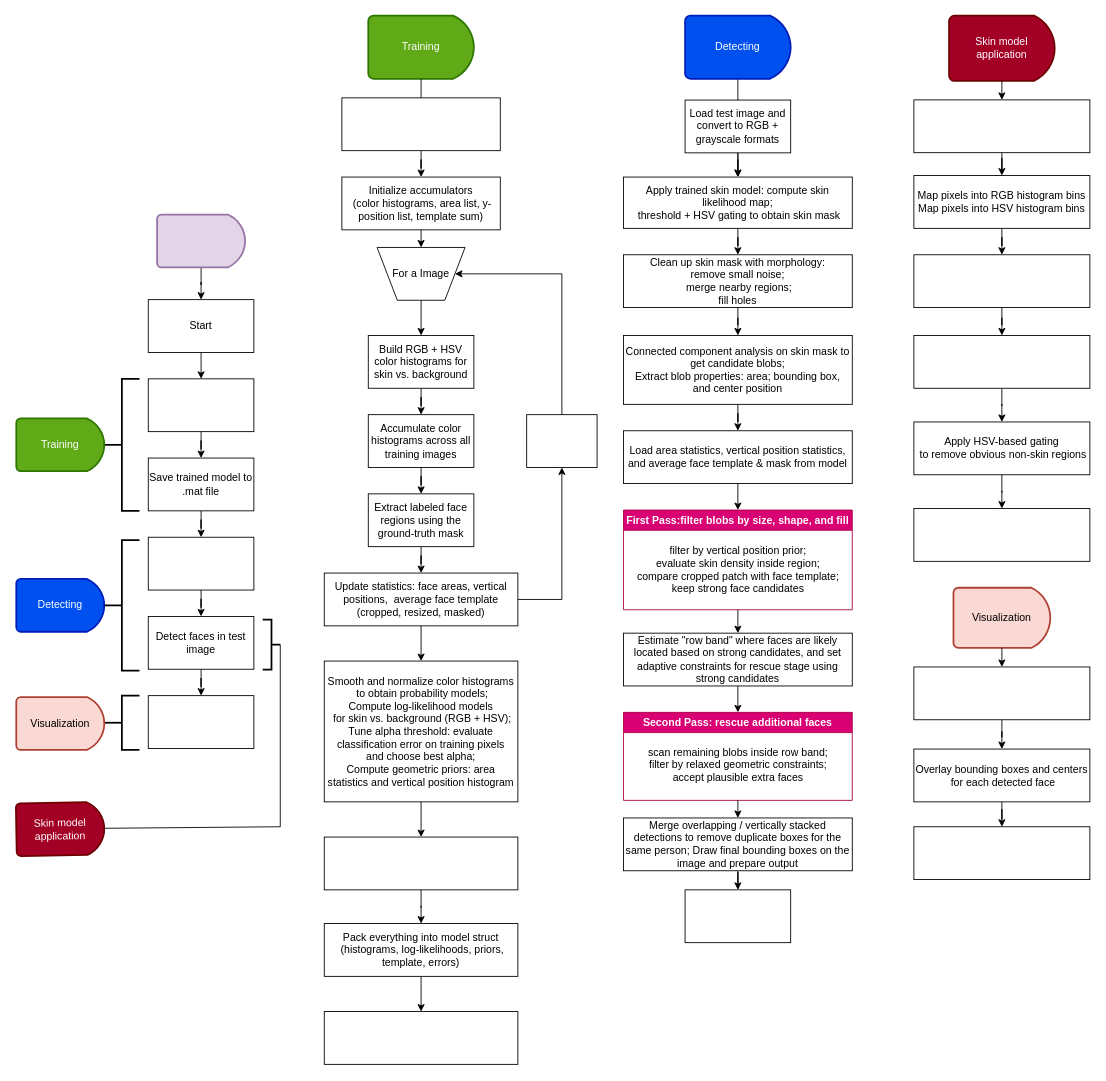
This 1106x1081 diagram has some shape labels left out. Each missing label, with the centre of its shape:
"Display annotated image with face count" goes at (x=1001, y=853).
"Display detections" goes at (x=200, y=721).
"Global Project Flow" goes at (x=201, y=240).
"Input image and trained model, Convert image to RGB + HSV" goes at (x=1001, y=126).
"Load model and test image (online)" goes at (x=200, y=563).
"Load original image" goes at (x=1001, y=693).
"Look up combined skin log-likelihood from trained model" goes at (x=1001, y=281).
"Next Image" goes at (x=561, y=440).
"Normalize average face template (final face template + mask)" goes at (x=420, y=863).
"Output final skin mask + log likelihood image" goes at (x=1001, y=534).
"Return list of faces (bounding box + center)" goes at (x=737, y=916).
"Save model to face_model.mat" goes at (x=420, y=1037).
"Set training parameters (histogram bins, template size, alpha grid, etc.)" goes at (x=420, y=124).
"Threshold likelihood to create bright skin mask" goes at (x=1001, y=361).
"Train skin + face model (offline)" goes at (x=200, y=405).
